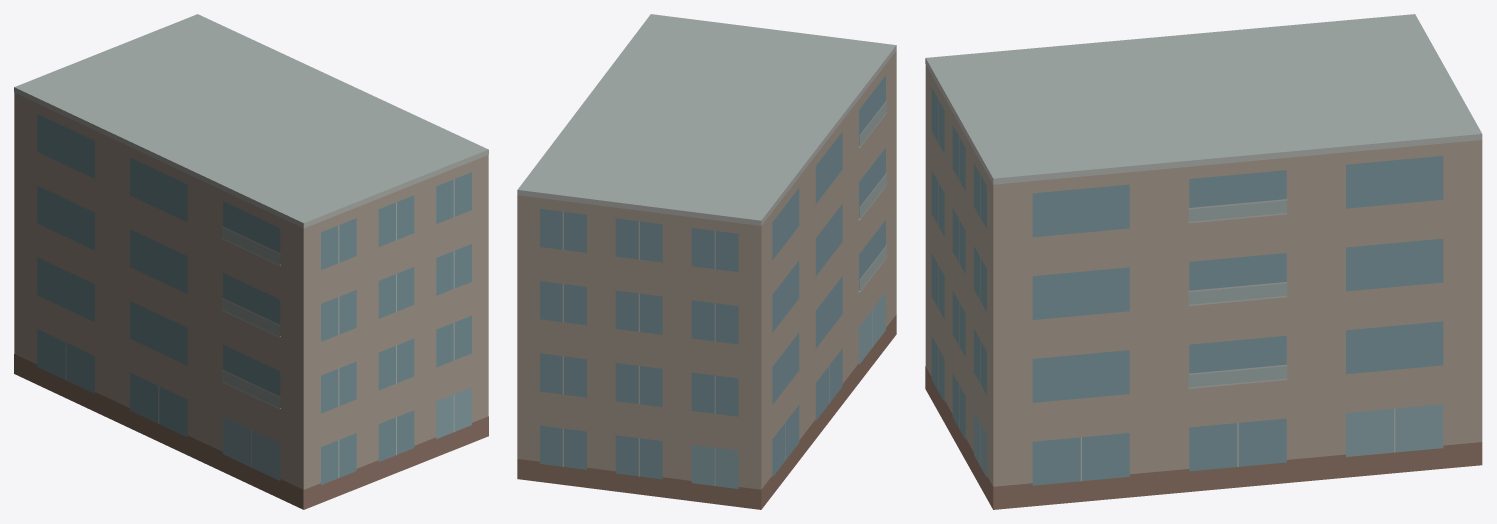
Rendered from survey-upis-32713641.glb.
The picture shows the model from 3 angles, left to right: view 1: azimuth 30°, elevation 25°; view 2: azimuth 150°, elevation 25°; view 3: azimuth 270°, elevation 25°; orthographic projection. The views are drawn at different scales.
Parts seen in each view (by area): view 1: survey-upis-32713641.tmp; view 2: survey-upis-32713641.tmp; view 3: survey-upis-32713641.tmp.
Boxes of the visible parts, x1,y1,x2,y2 form: survey-upis-32713641.tmp: [14, 14, 488, 509]; survey-upis-32713641.tmp: [517, 14, 896, 509]; survey-upis-32713641.tmp: [925, 14, 1482, 509].
Bounding box in the file's own units: 14.19 × 13.3 × 20.27.
